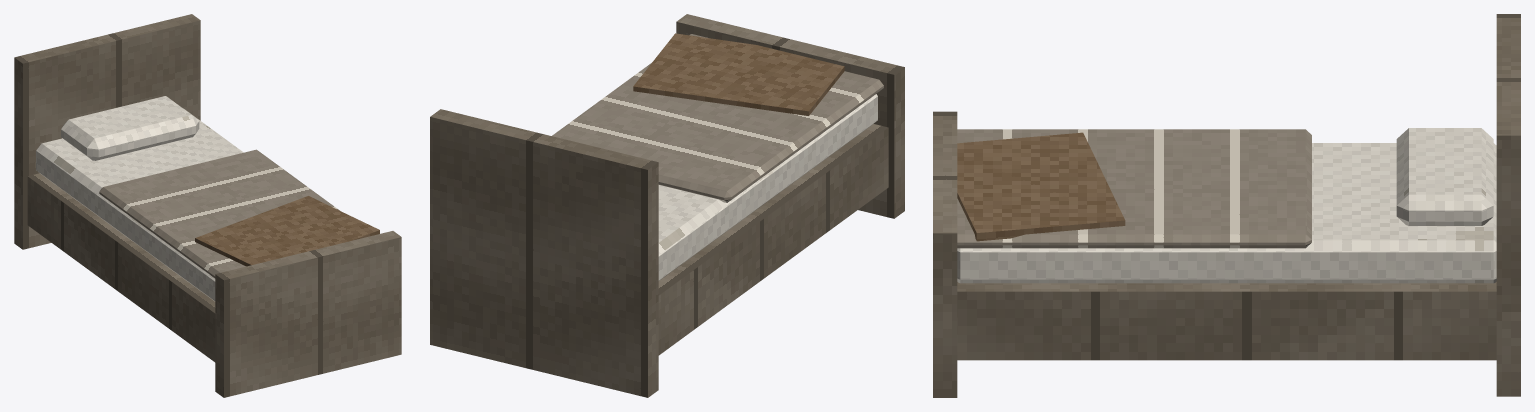
File: bed_wood.obj
3 views of the same model, side by side, from view 1: azimuth 30°, elevation 25°; view 2: azimuth 150°, elevation 25°; view 3: azimuth 270°, elevation 25° (orthographic). The views are drawn at different scales.
Visible parts, largest first — view 1: bed_wood; view 2: bed_wood; view 3: bed_wood.
Part boxes in pixels (x1=…): bed_wood: x1=14, y1=14, x2=401, y2=397; bed_wood: x1=430, y1=14, x2=904, y2=397; bed_wood: x1=933, y1=14, x2=1520, y2=397.
Size of the model in its own units: 0.95 by 0.955 by 1.94.
